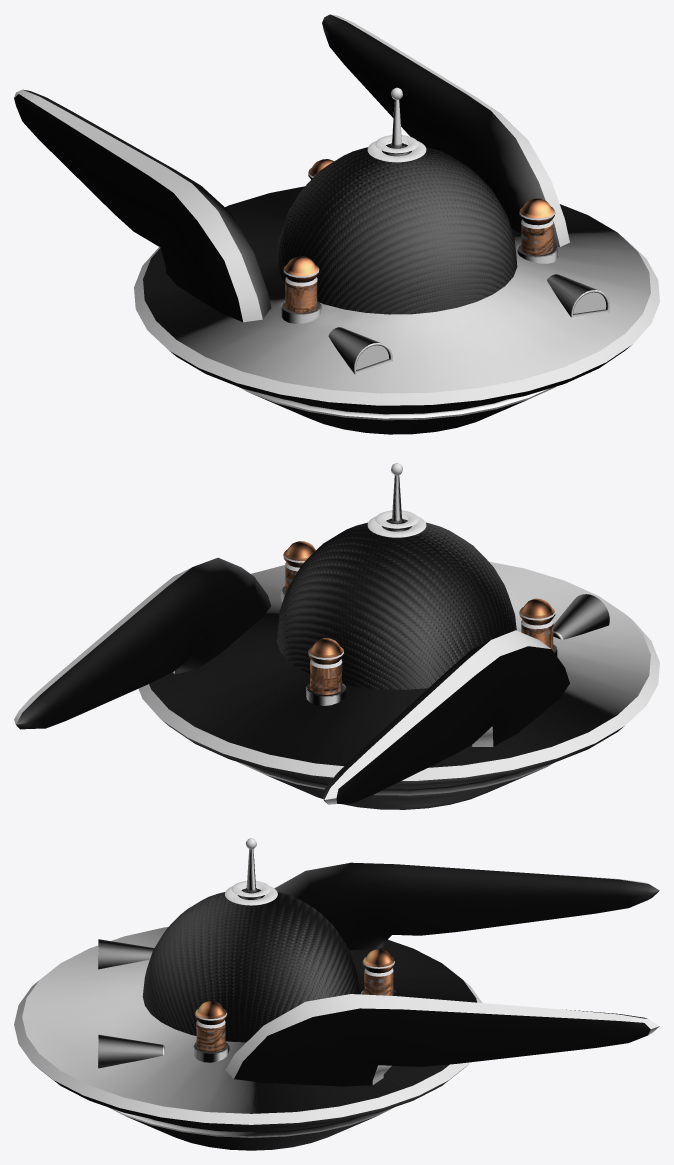
File: vehicleBaseNEW.fbx
The picture shows the model from 3 angles, top to bottom: view 1: azimuth 30°, elevation 25°; view 2: azimuth 150°, elevation 25°; view 3: azimuth 270°, elevation 25°; orthographic projection. The views are drawn at different scales.
Parts seen in each view (by area): view 1: vehicleBodyNEW, vehicleBodyNeon3NEW, vehicleBodyNeon1NEW, vehicleBodyNeon2NEW; view 2: vehicleBodyNEW, vehicleBodyNeon3NEW, vehicleBodyNeon2NEW; view 3: vehicleBodyNEW, vehicleBodyNeon3NEW, vehicleBodyNeon2NEW.
Part boxes in pixels (box(x1,y1,x2,y2)): vehicleBodyNEW: box(14, 14, 650, 434); vehicleBodyNeon3NEW: box(14, 14, 659, 420); vehicleBodyNeon1NEW: box(356, 292, 606, 369); vehicleBodyNeon2NEW: box(283, 135, 555, 286); vehicleBodyNEW: box(16, 475, 650, 809); vehicleBodyNeon3NEW: box(14, 463, 659, 804); vehicleBodyNeon2NEW: box(283, 510, 555, 668); vehicleBodyNEW: box(22, 849, 659, 1150); vehicleBodyNeon3NEW: box(14, 838, 659, 1137); vehicleBodyNeon2NEW: box(195, 881, 394, 1028).
Size of the model in its own units: 11.09 by 15.09 by 7.07.
Materials: 1 (1 with a texture image).
